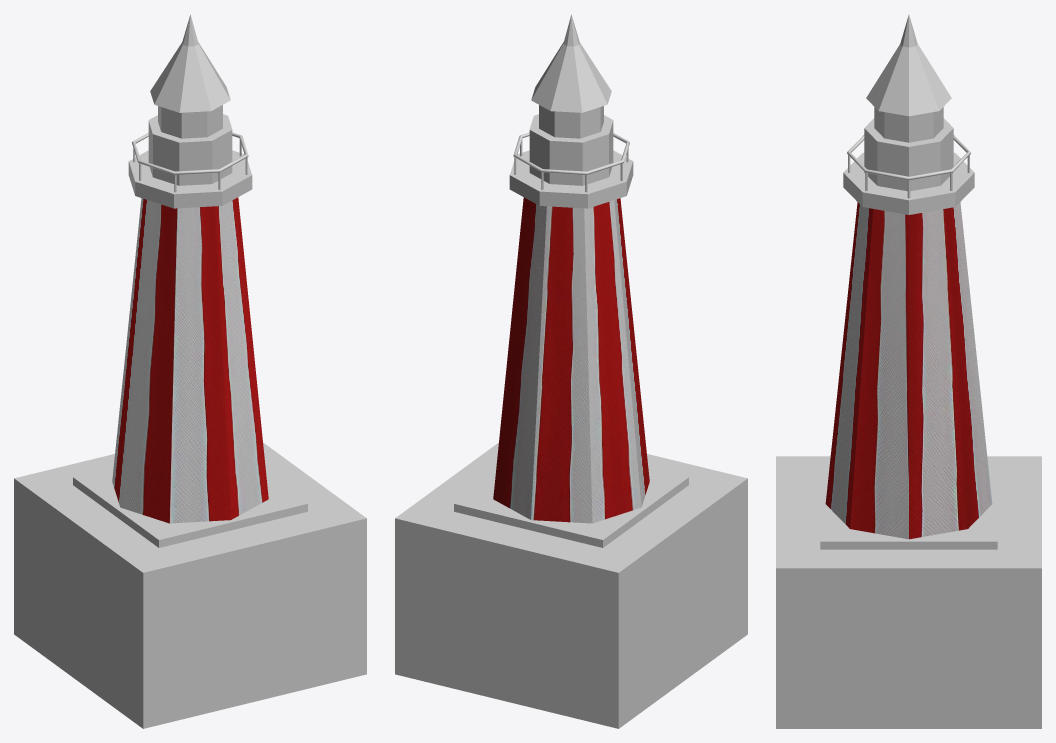
The model's file is lighthouse3.obj.
3 views of the same model, side by side, from view 1: azimuth 30°, elevation 25°; view 2: azimuth 150°, elevation 25°; view 3: azimuth 270°, elevation 25° (orthographic). The views are drawn at different scales.
Visible parts, largest first — view 1: ?????_1, ??????_1, ?????, ??????1_1, ??????1, ??????, ??????2_1, Sweep; view 2: ?????_1, ??????_1, ?????, ??????1_1, ??????1, ??????, ??????2_1, Sweep; view 3: ?????_1, ??????_1, ?????, ??????1_1, ??????1, ??????, ??????2_1, Sweep.
Part boxes in pixels (x1=…): ?????_1: x1=14, y1=442, x2=366, y2=728; ??????_1: x1=112, y1=197, x2=268, y2=523; ?????: x1=73, y1=467, x2=307, y2=547; ??????1_1: x1=148, y1=114, x2=232, y2=185; ??????1: x1=150, y1=42, x2=230, y2=112; ??????: x1=128, y1=150, x2=252, y2=208; ??????2_1: x1=158, y1=105, x2=222, y2=138; Sweep: x1=132, y1=132, x2=248, y2=174; ?????_1: x1=395, y1=442, x2=747, y2=728; ??????_1: x1=493, y1=197, x2=649, y2=523; ?????: x1=454, y1=467, x2=688, y2=547; ??????1_1: x1=529, y1=114, x2=613, y2=185; ??????1: x1=531, y1=42, x2=611, y2=112; ??????: x1=509, y1=150, x2=633, y2=208; ??????2_1: x1=539, y1=105, x2=603, y2=138; Sweep: x1=513, y1=132, x2=629, y2=174; ?????_1: x1=776, y1=456, x2=1041, y2=728; ??????_1: x1=825, y1=202, x2=992, y2=539; ?????: x1=820, y1=466, x2=997, y2=549; ??????1_1: x1=864, y1=118, x2=953, y2=191; ??????1: x1=866, y1=44, x2=951, y2=116; ??????: x1=843, y1=152, x2=974, y2=214; ??????2_1: x1=874, y1=107, x2=943, y2=142; Sweep: x1=847, y1=135, x2=970, y2=180.
Bounding box in the file's own units: 3 × 8.21 × 3.
2 materials, 1 textured.
